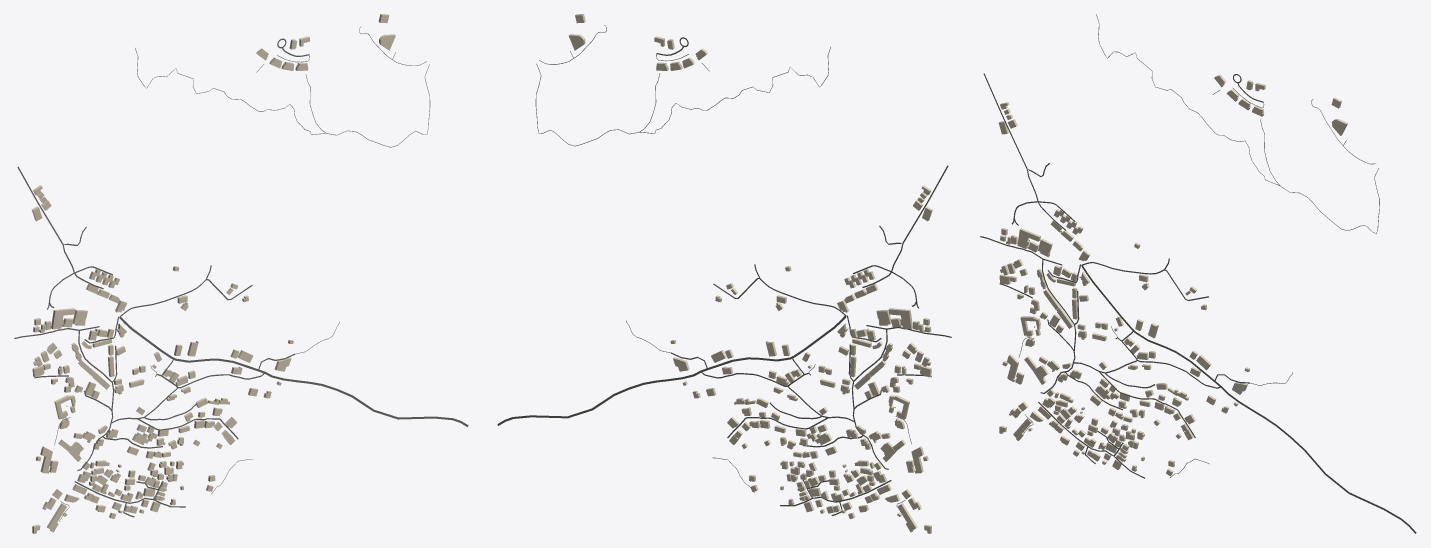
The model's file is historic-palestine-10_23_3521_3171.glb.
3 views of the same model, side by side, from view 1: azimuth 30°, elevation 25°; view 2: azimuth 150°, elevation 25°; view 3: azimuth 330°, elevation 25° (orthographic). The views are drawn at different scales.
Parts seen in each view (by area): view 1: Road .010; view 2: Road .010; view 3: Road .010.
Boxes of the visible parts, x1,y1,x2,y2 form: Road .010: [119, 317, 468, 426]; Road .010: [497, 315, 846, 425]; Road .010: [1081, 265, 1416, 533].
Bounding box in the file's own units: 1207 × 1198 × 8.7.
